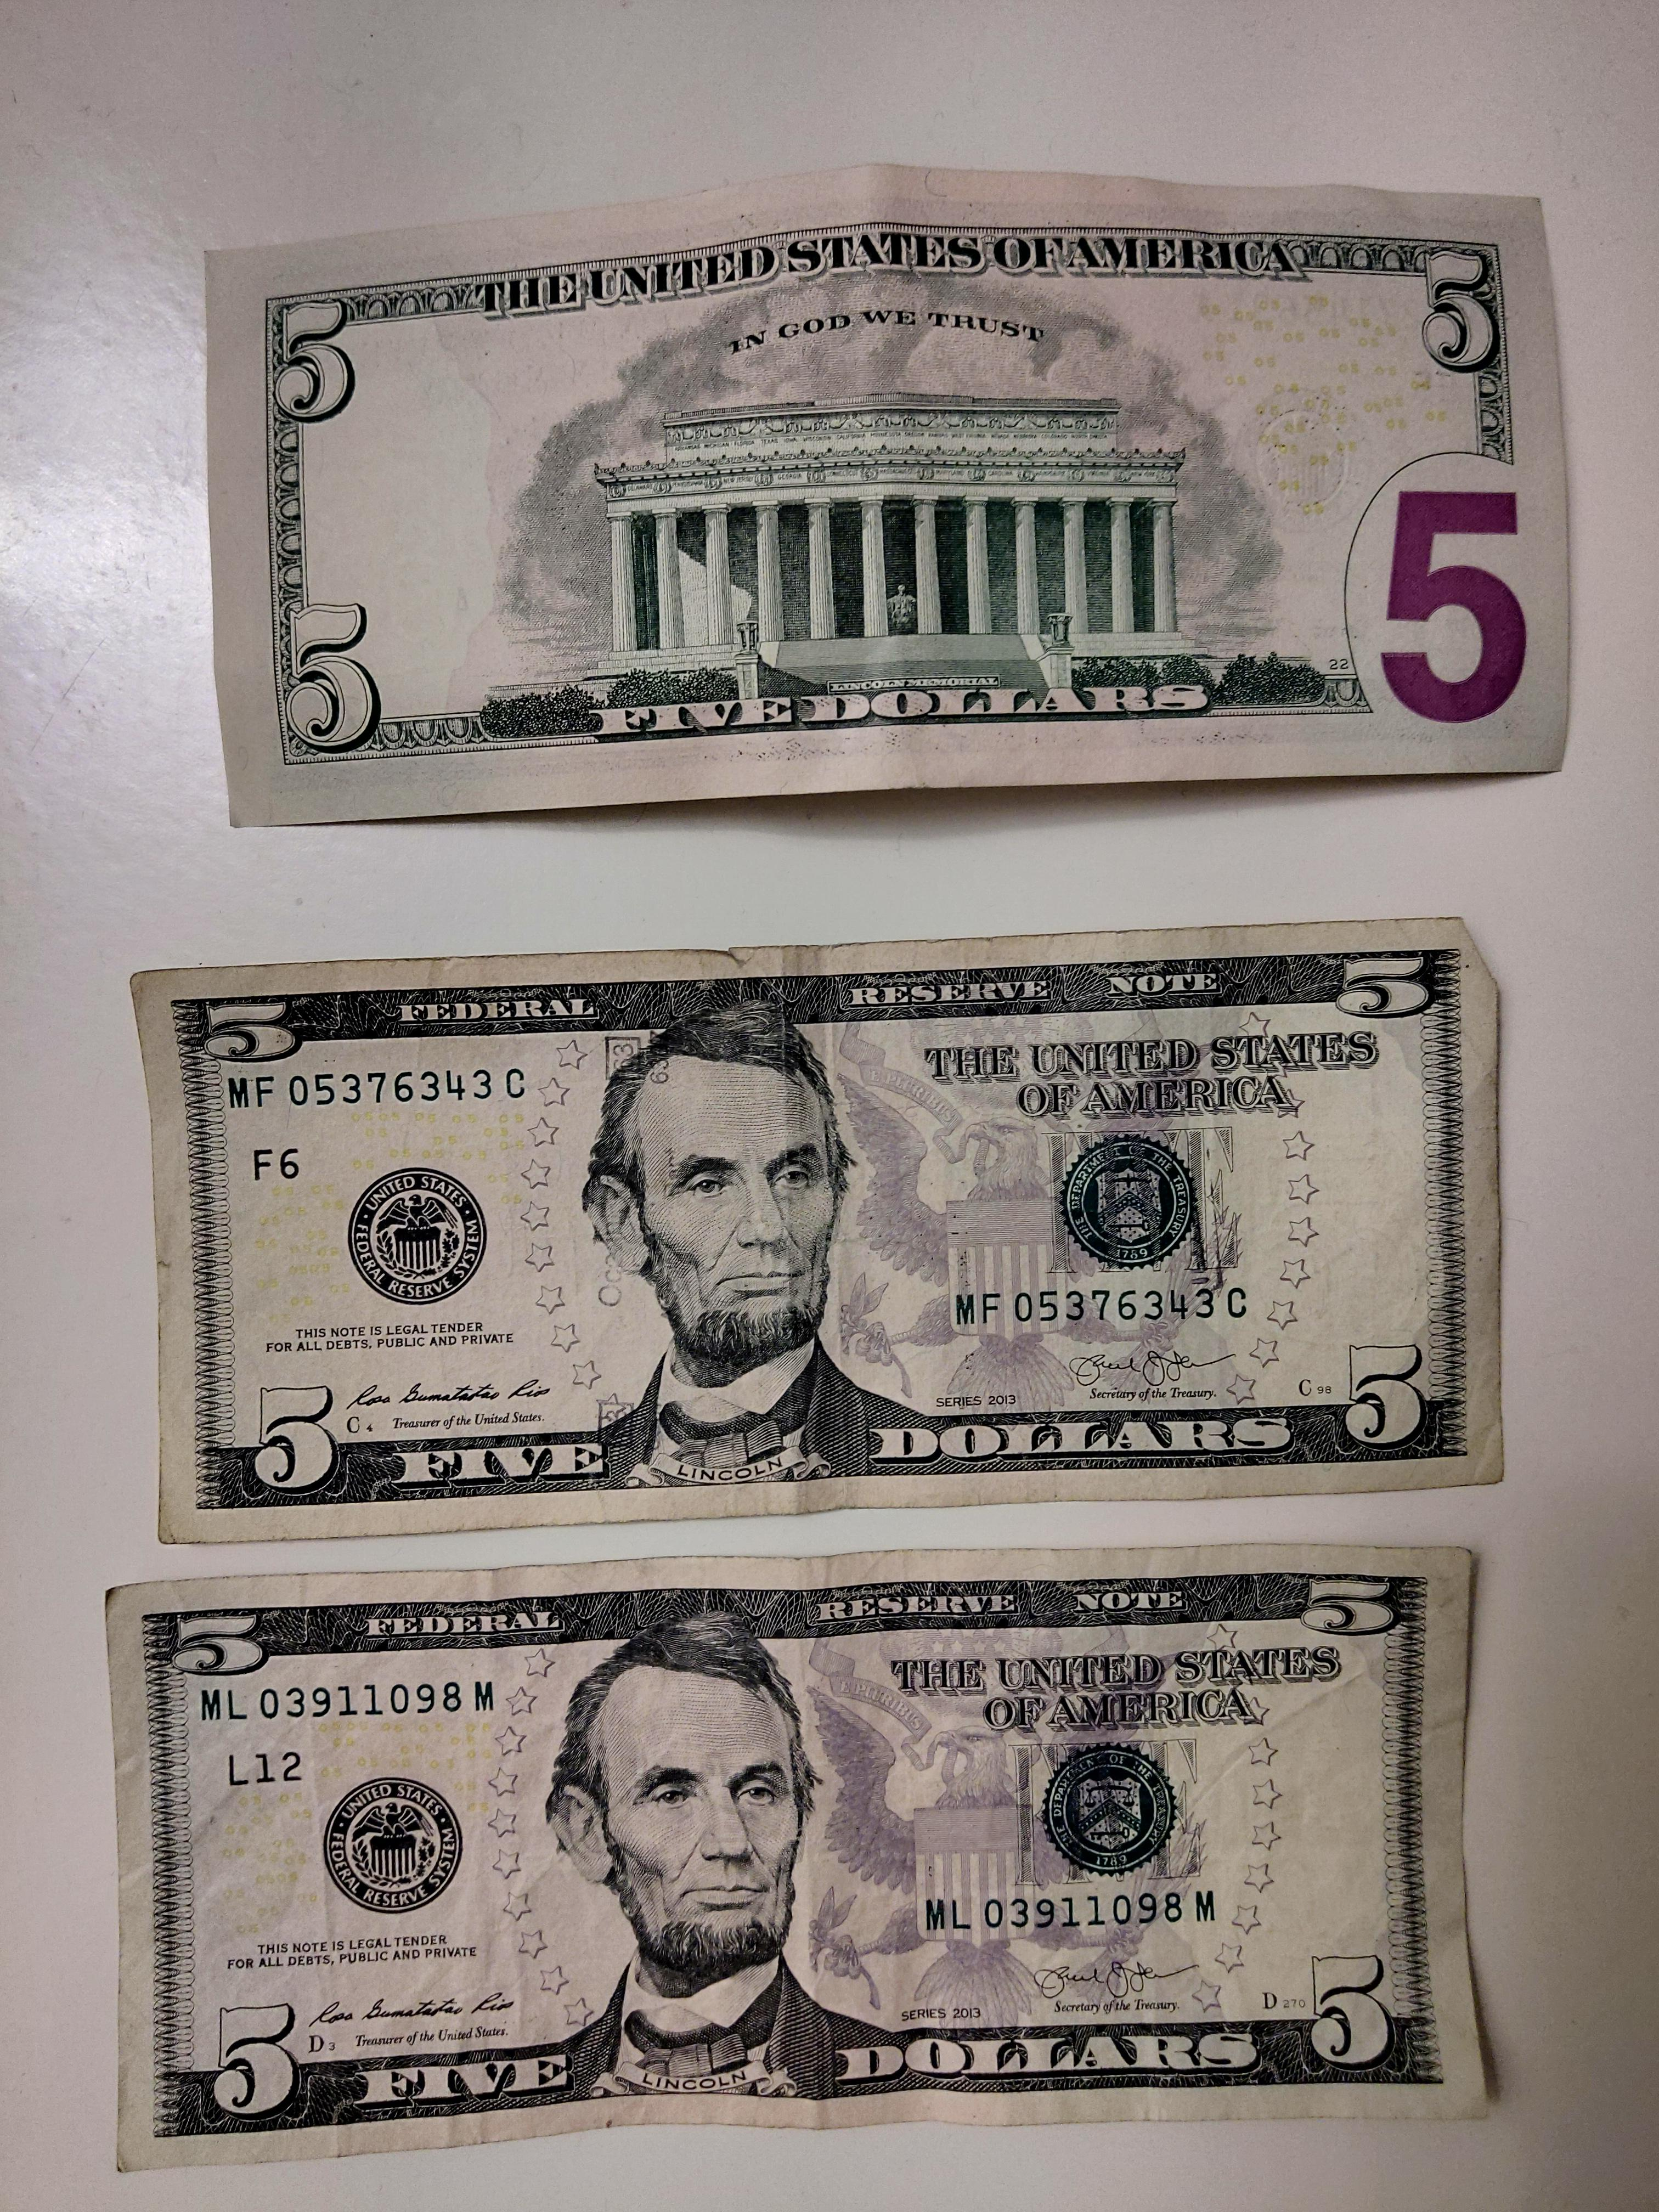FiveBill: (199, 157, 1579, 834), (125, 913, 1511, 1550), (101, 1543, 1488, 2179)
